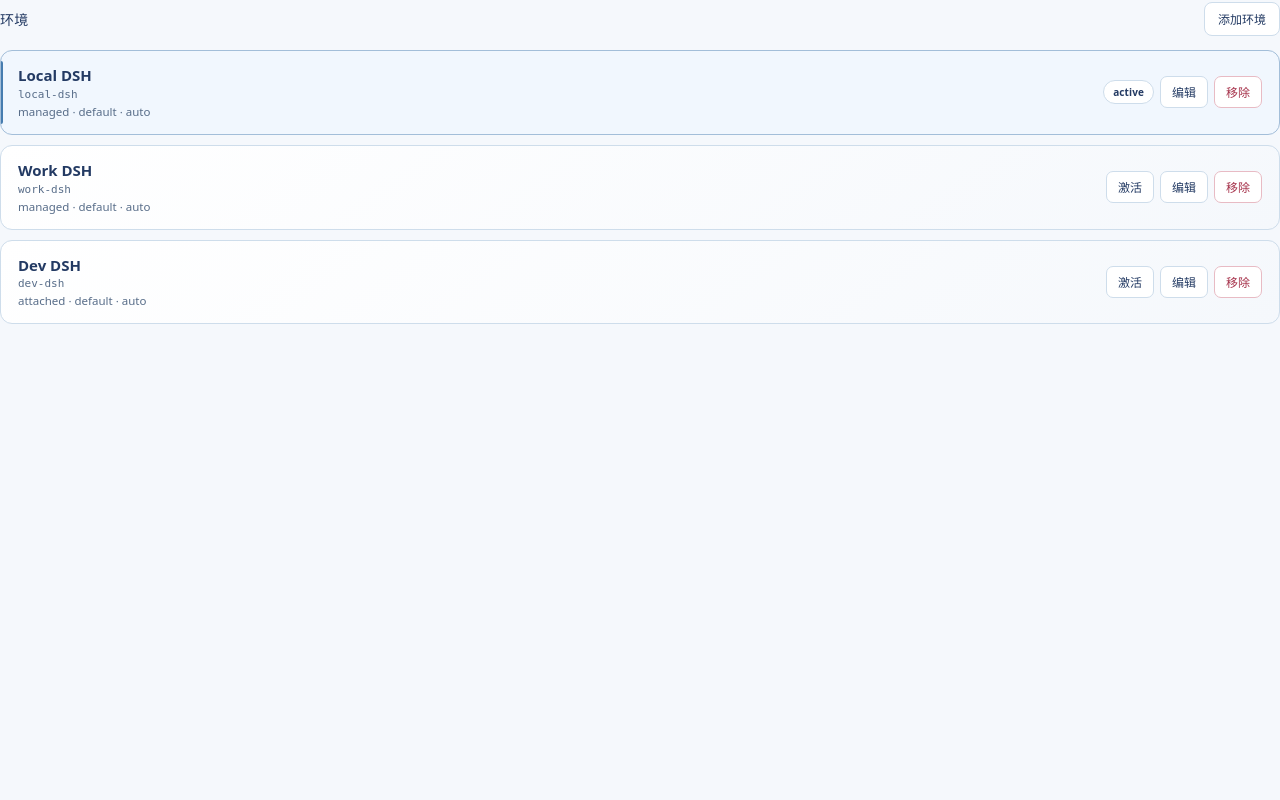
it: EnvironmentList › cancelling the confirmation leaves the card untouched
Click the button with test id "remove-dev-dsh" at [1238, 282], box [1214,266,1262,298]
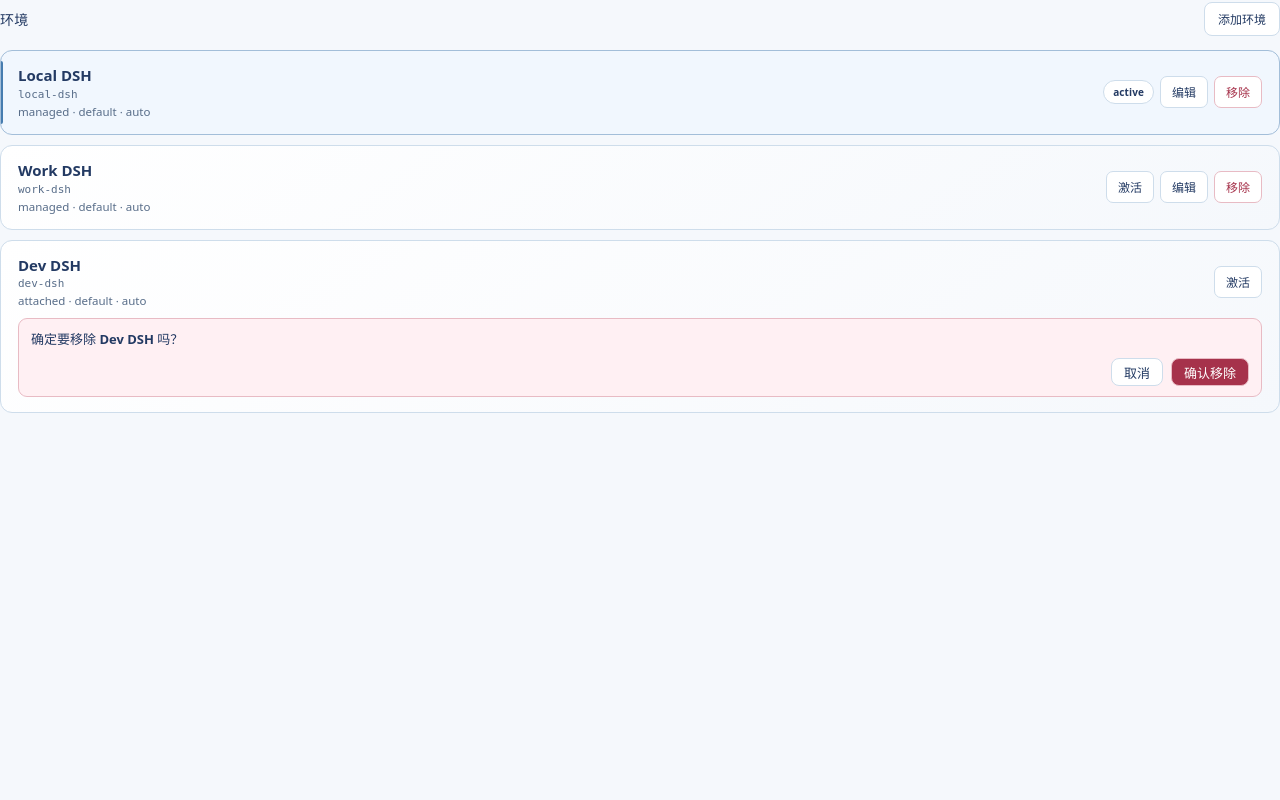
Result: the button with test id "remove-confirm-dev-dsh" is shown at [1171,358,1249,386]
Click the button with test id "remove-cancel-dev-dsh" at [1137, 372], box [1111,358,1163,386]
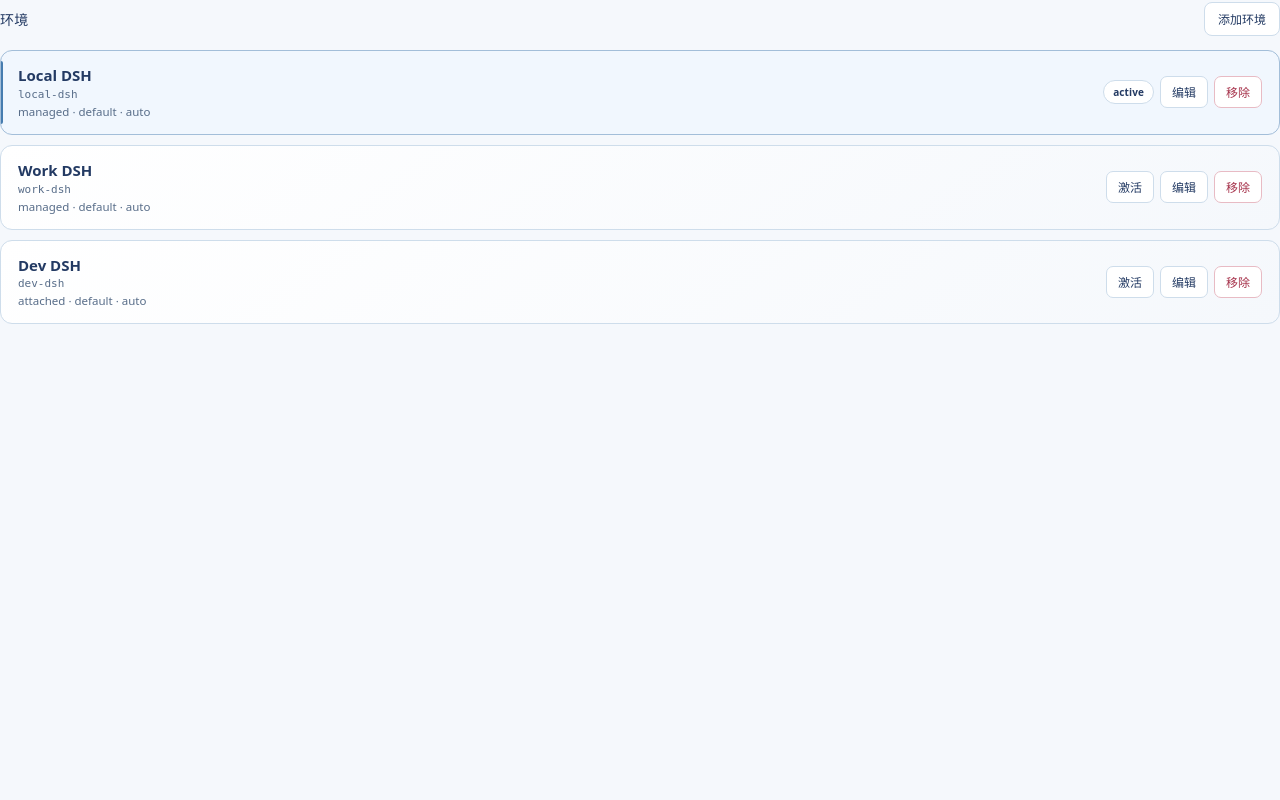
Result: the button with test id "remove-confirm-dev-dsh" is gone
